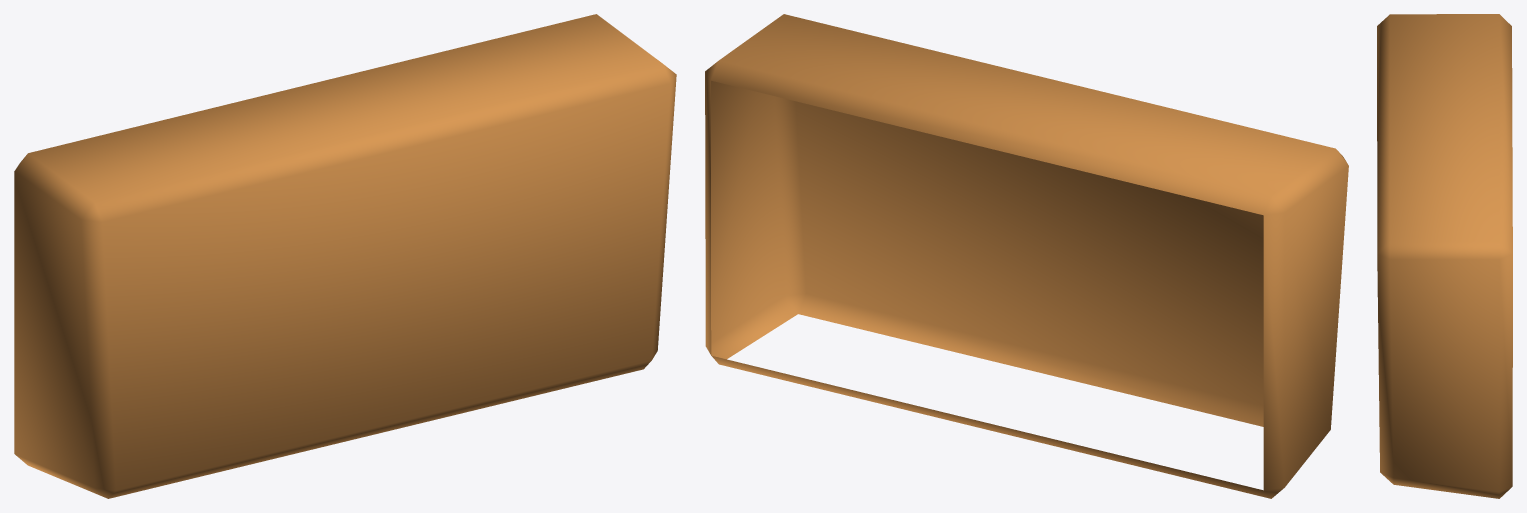
Rendered from block_d_lo.glb.
3 renders of one model, left to right at view 1: azimuth 30°, elevation 25°; view 2: azimuth 150°, elevation 25°; view 3: azimuth 270°, elevation 25°, orthographic. The views are drawn at different scales.
Visible parts, largest first — view 1: block_d_lo; view 2: block_d_lo; view 3: block_d_lo.
Part boxes in pixels (left/top/right/bottom): block_d_lo: left=14, top=14, right=676, bottom=498; block_d_lo: left=705, top=14, right=1348, bottom=498; block_d_lo: left=1377, top=14, right=1512, bottom=498.
Size of the model in its own units: 1.5 by 0.7522 by 0.3601.
